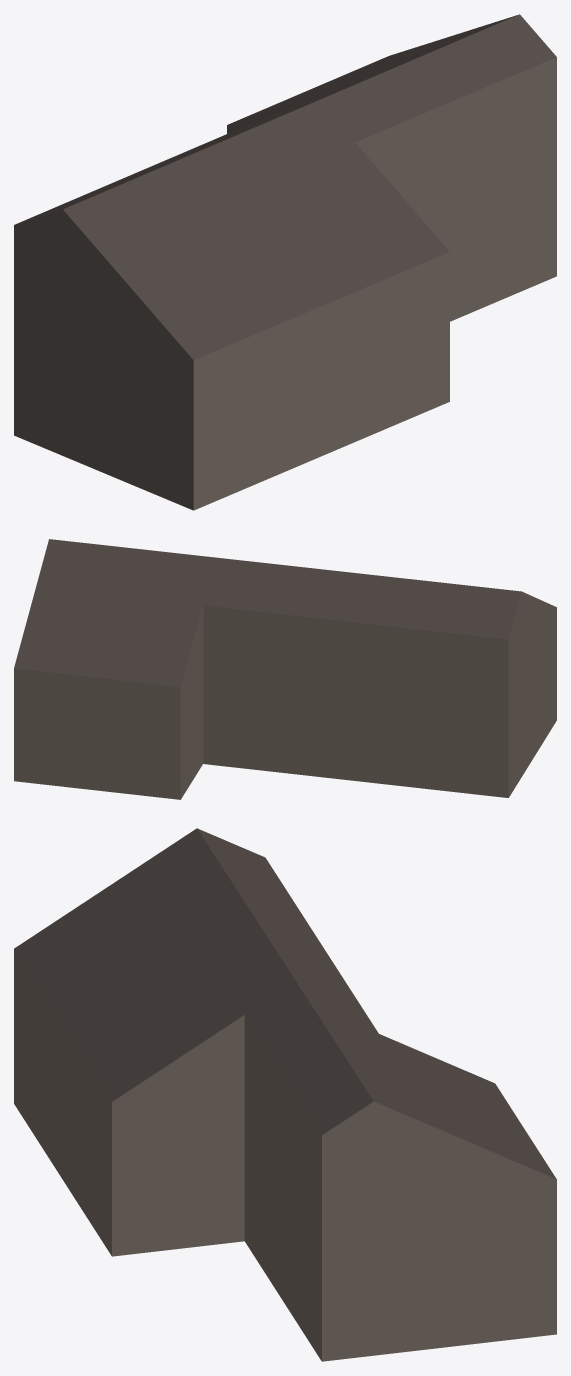
3 views of the same model, one above another, from view 1: azimuth 30°, elevation 25°; view 2: azimuth 150°, elevation 25°; view 3: azimuth 270°, elevation 25° (orthographic). The views are drawn at different scales.
Parts seen in each view (by area): view 1: HP-w1365659890; view 2: HP-w1365659890; view 3: HP-w1365659890.
Part boxes in pixels (box(x1,y1,x2,y2)): HP-w1365659890: box(14, 14, 556, 510); HP-w1365659890: box(14, 539, 556, 799); HP-w1365659890: box(14, 828, 556, 1361).
Size of the model in its own units: 23.9 by 9.87 by 19.1.
